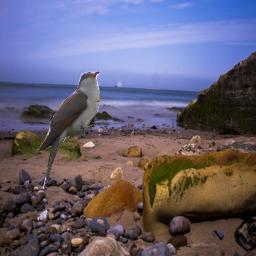Cuckoo: (37, 71, 100, 193)
